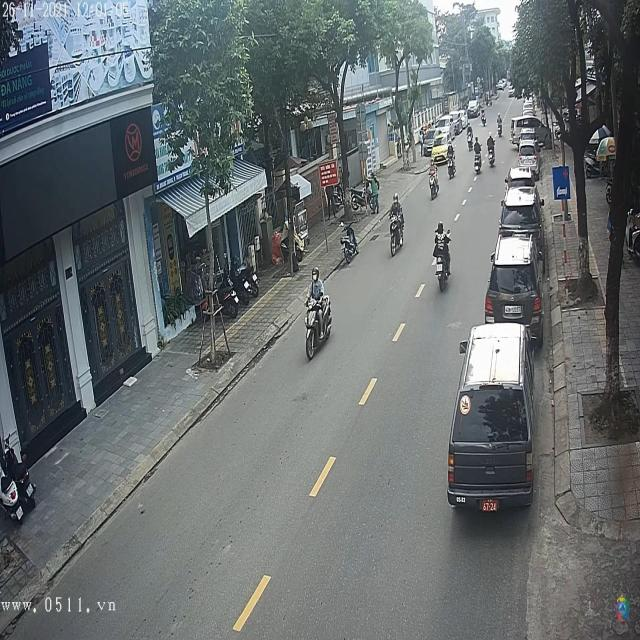car: (449, 326, 535, 511), (485, 238, 541, 330), (500, 188, 544, 236), (469, 99, 482, 116)
motorcycle: (303, 296, 333, 362), (388, 210, 406, 258), (434, 252, 452, 292), (429, 171, 441, 204), (446, 153, 459, 182), (473, 147, 484, 177)
